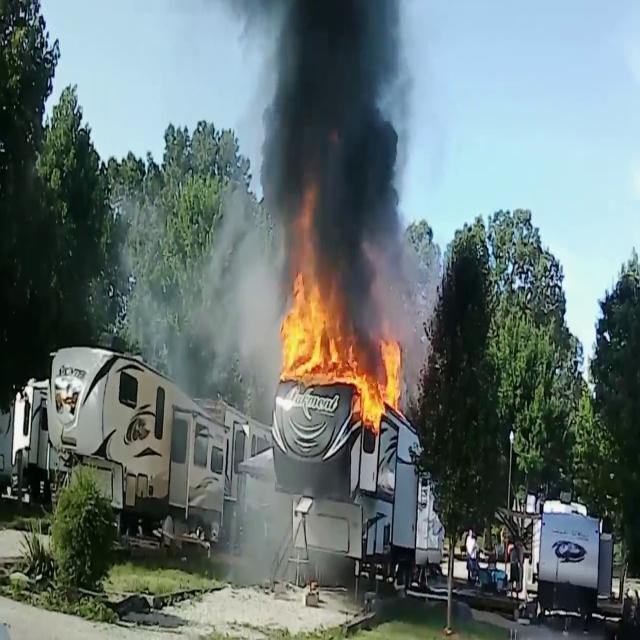Fire: (275, 243, 405, 425), (350, 332, 406, 428)
Smoke: (246, 1, 432, 324), (124, 182, 282, 416)
